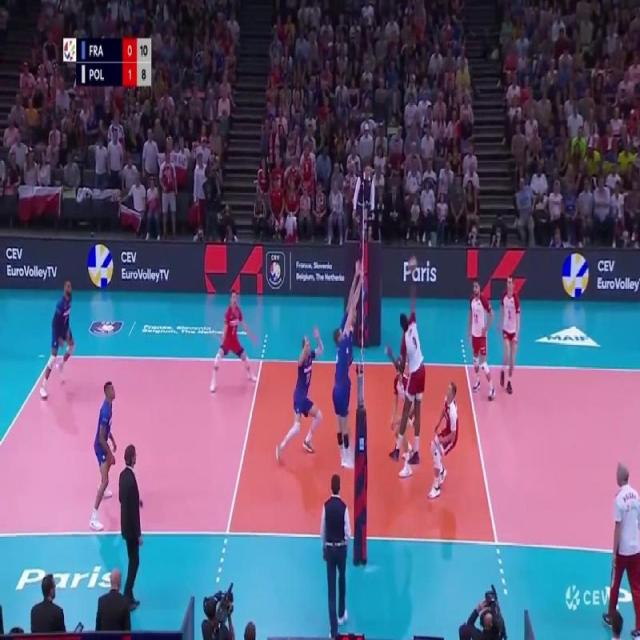volleyball: (408, 256, 417, 269)
